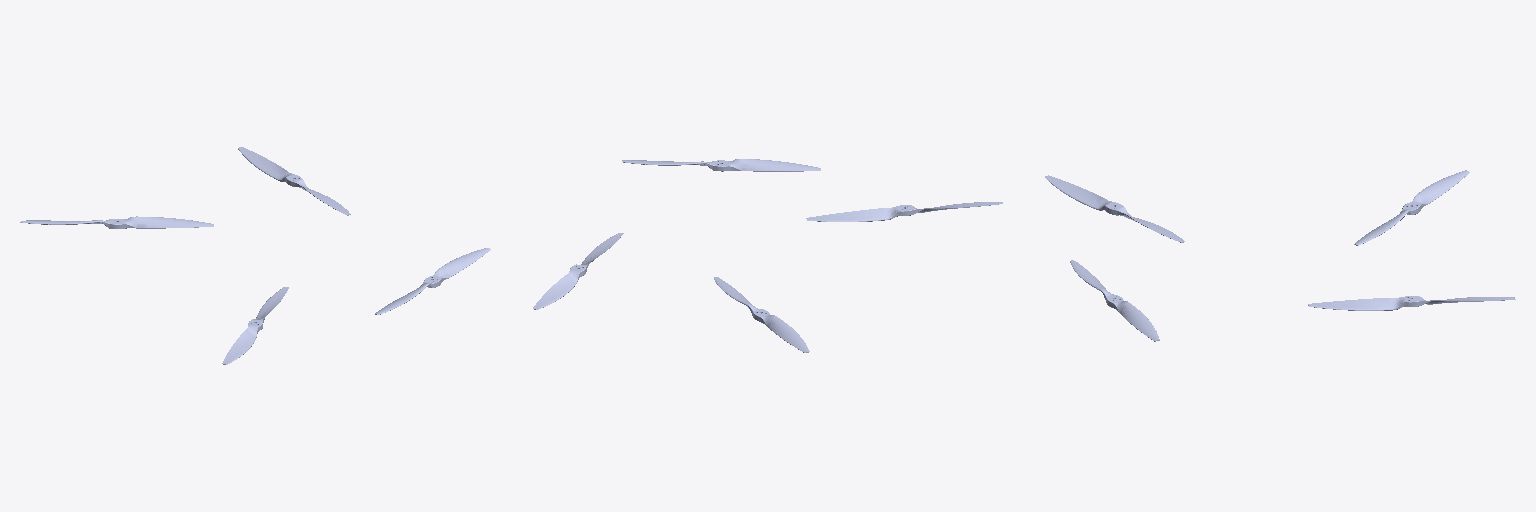
robot.urdf — BabyCraneAssemYUp:
<?xml version="1.0" encoding="utf-8"?>
<!-- This URDF was automatically created by SolidWorks to URDF Exporter! Originally created by Stephen Brawner ([email redacted]) 
     Commit Version: 1.6.0-4-g7f85cfe  Build Version: 1.6.7995.38578
     For more information, please see http://wiki.ros.org/sw_urdf_exporter -->
<robot
  name="BabyCraneAssemYUp">
  <link
    name="base_link">
    <inertial>
      <origin
        xyz="-0.0087973089746222 0.376613163921915 -0.000184451170872863"
        rpy="0 0 0" />
      <mass
        value="4.82498202935699" />
      <inertia
        ixx="0.0964810475250014"
        ixy="0.00628388066708135"
        ixz="5.44588405851482E-05"
        iyy="0.263944674090472"
        iyz="-1.14845410664111E-05"
        izz="0.26392615278879" />
    </inertial>
    <visual>
      <origin
        xyz="0 0 0"
        rpy="0 0 0" />
      <geometry>
        <mesh
          filename="package://BabyCraneAssemYUp/meshes/base_link.STL" />
      </geometry>
      <material
        name="">
        <color
          rgba="0 0 0 0.9" />
      </material>
    </visual>
    <collision>
      <origin
        xyz="0 0 0"
        rpy="0 0 0" />
      <geometry>
        <mesh
          filename="package://BabyCraneAssemYUp/meshes/base_link.STL" />
      </geometry>
    </collision>
  </link>
  <link
    name="prop1_ccw_link">
    <inertial>
      <origin
        xyz="2.12E-07 5.8411E-08 0.013302"
        rpy="0 0 0" />
      <mass
        value="0.17579" />
      <inertia
        ixx="0.00012645"
        ixy="-0.00018834"
        ixz="-6.0311E-10"
        iyy="0.00037868"
        iyz="-1.0334E-09"
        izz="0.00049687" />
    </inertial>
    <visual>
      <origin
        xyz="0 0 0"
        rpy="0 0 0" />
      <geometry>
        <mesh
          filename="package://BabyCraneAssemYUp/meshes/prop1_ccw_link.STL" />
      </geometry>
      <material
        name="">
        <color
          rgba="0.79216 0.81961 0.93333 1" />
      </material>
    </visual>
    <collision>
      <origin
        xyz="0 0 0"
        rpy="0 0 0" />
      <geometry>
        <mesh
          filename="package://BabyCraneAssemYUp/meshes/prop1_ccw_link.STL" />
      </geometry>
    </collision>
  </link>
  <joint
    name="prop1_ccw_joint"
    type="continuous">
    <origin
      xyz="0.22229 -0.43656 0.57073"
      rpy="0 0 -0.070327" />
    <parent
      link="base_link" />
    <child
      link="prop1_ccw_link" />
    <axis
      xyz="0 0 1" />
  </joint>
  <link
    name="prop2_cw_link">
    <inertial>
      <origin
        xyz="1.5725E-07 2.2285E-07 -0.014372"
        rpy="0 0 0" />
      <mass
        value="0.17576" />
      <inertia
        ixx="0.00012643"
        ixy="0.00018829"
        ixz="3.2569E-10"
        iyy="0.00037853"
        iyz="-9.2354E-10"
        izz="0.00049671" />
    </inertial>
    <visual>
      <origin
        xyz="0 0 0"
        rpy="0 0 0" />
      <geometry>
        <mesh
          filename="package://BabyCraneAssemYUp/meshes/prop2_cw_link.STL" />
      </geometry>
      <material
        name="">
        <color
          rgba="0.79216 0.81961 0.93333 1" />
      </material>
    </visual>
    <collision>
      <origin
        xyz="0 0 0"
        rpy="0 0 0" />
      <geometry>
        <mesh
          filename="package://BabyCraneAssemYUp/meshes/prop2_cw_link.STL" />
      </geometry>
    </collision>
  </link>
  <joint
    name="prop2_cw_joint"
    type="continuous">
    <origin
      xyz="0.22229 0.43656 0.56084"
      rpy="3.1416 0 -1.9866" />
    <parent
      link="base_link" />
    <child
      link="prop2_cw_link" />
    <axis
      xyz="0 0 1" />
  </joint>
  <link
    name="prop3_ccw_link">
    <inertial>
      <origin
        xyz="2.1277E-07 6.1938E-08 0.013302"
        rpy="0 0 0" />
      <mass
        value="0.17579" />
      <inertia
        ixx="0.00012644"
        ixy="-0.00018834"
        ixz="-6.1542E-10"
        iyy="0.00037868"
        iyz="-1.0286E-09"
        izz="0.00049687" />
    </inertial>
    <visual>
      <origin
        xyz="0 0 0"
        rpy="0 0 0" />
      <geometry>
        <mesh
          filename="package://BabyCraneAssemYUp/meshes/prop3_ccw_link.STL" />
      </geometry>
      <material
        name="">
        <color
          rgba="0.79216 0.81961 0.93333 1" />
      </material>
    </visual>
    <collision>
      <origin
        xyz="0 0 0"
        rpy="0 0 0" />
      <geometry>
        <mesh
          filename="package://BabyCraneAssemYUp/meshes/prop3_ccw_link.STL" />
      </geometry>
    </collision>
  </link>
  <joint
    name="prop3_ccw_joint"
    type="continuous">
    <origin
      xyz="-0.42268 0.43656 0.57073"
      rpy="0 0 -1.0628" />
    <parent
      link="base_link" />
    <child
      link="prop3_ccw_link" />
    <axis
      xyz="0 0 1" />
  </joint>
  <link
    name="prop4_cw_link">
    <inertial>
      <origin
        xyz="1.544E-07 2.1895E-07 -0.014372"
        rpy="0 0 0" />
      <mass
        value="0.17576" />
      <inertia
        ixx="0.00012643"
        ixy="0.00018829"
        ixz="3.3625E-10"
        iyy="0.00037852"
        iyz="-9.217E-10"
        izz="0.00049671" />
    </inertial>
    <visual>
      <origin
        xyz="0 0 0"
        rpy="0 0 0" />
      <geometry>
        <mesh
          filename="package://BabyCraneAssemYUp/meshes/prop4_cw_link.STL" />
      </geometry>
      <material
        name="">
        <color
          rgba="0.79216 0.81961 0.93333 1" />
      </material>
    </visual>
    <collision>
      <origin
        xyz="0 0 0"
        rpy="0 0 0" />
      <geometry>
        <mesh
          filename="package://BabyCraneAssemYUp/meshes/prop4_cw_link.STL" />
      </geometry>
    </collision>
  </link>
  <joint
    name="prop4_cw_joint"
    type="continuous">
    <origin
      xyz="-0.42268 -0.43656 0.56084"
      rpy="-3.1416 0 -2.9145" />
    <parent
      link="base_link" />
    <child
      link="prop4_cw_link" />
    <axis
      xyz="0 0 1" />
  </joint>
</robot>

--- Render facts (derived) ---
Views: 3 orthographic renders of the robot side by side, from view 1: azimuth 30°, elevation 25°; view 2: azimuth 150°, elevation 25°; view 3: azimuth 270°, elevation 25°.
Robot: BabyCraneAssemYUp — 5 links, 4 joints (4 continuous); root link base_link; default pose: all joints at 0.
Visible links, largest first — view 1: prop3_ccw_link, prop2_cw_link, prop1_ccw_link, prop4_cw_link; view 2: prop1_ccw_link, prop4_cw_link, prop3_ccw_link, prop2_cw_link; view 3: prop2_cw_link, prop4_cw_link, prop3_ccw_link, prop1_ccw_link.
Boxes of the visible links, x1,y1,x2,y2 form: prop3_ccw_link: (20, 216, 213, 228); prop2_cw_link: (238, 147, 350, 215); prop1_ccw_link: (375, 248, 490, 314); prop4_cw_link: (222, 287, 288, 364); prop1_ccw_link: (622, 159, 820, 171); prop4_cw_link: (806, 202, 1002, 221); prop3_ccw_link: (714, 277, 809, 352); prop2_cw_link: (533, 233, 623, 309); prop2_cw_link: (1308, 296, 1515, 310); prop4_cw_link: (1045, 175, 1184, 242); prop3_ccw_link: (1354, 170, 1469, 245); prop1_ccw_link: (1070, 260, 1159, 341).
Size in the robot's own frame: 1.19 by 1.38 by 0.0374 metres.
4 mesh visuals loaded from 5 distinct referenced files (4 binary STL); not drawn: 1 (reference not matched to a file when rendering).
